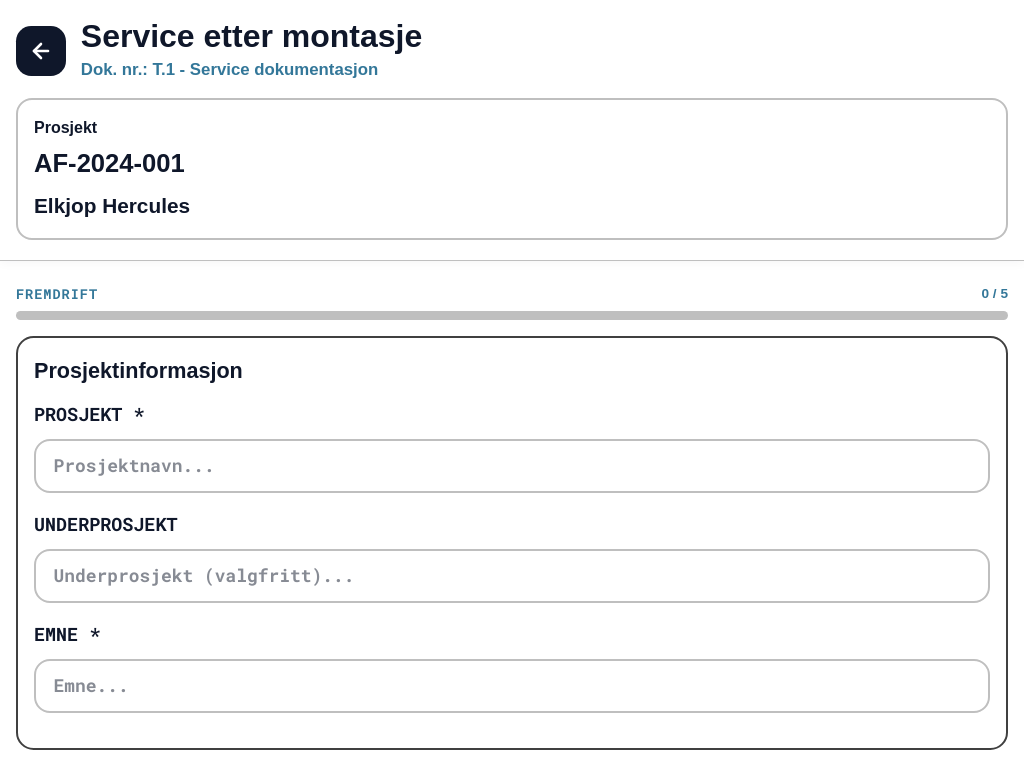
Scenario: KSServiceEtterMontasjeScreen › renders and updates progress when filling a tracked field
Expected: the text "0 / 5" is shown, [982,284,1008,304]
Type "Serviceprosjekt" into the field labelled "PROSJEKT *" at [512, 466], box [34,439,990,493]
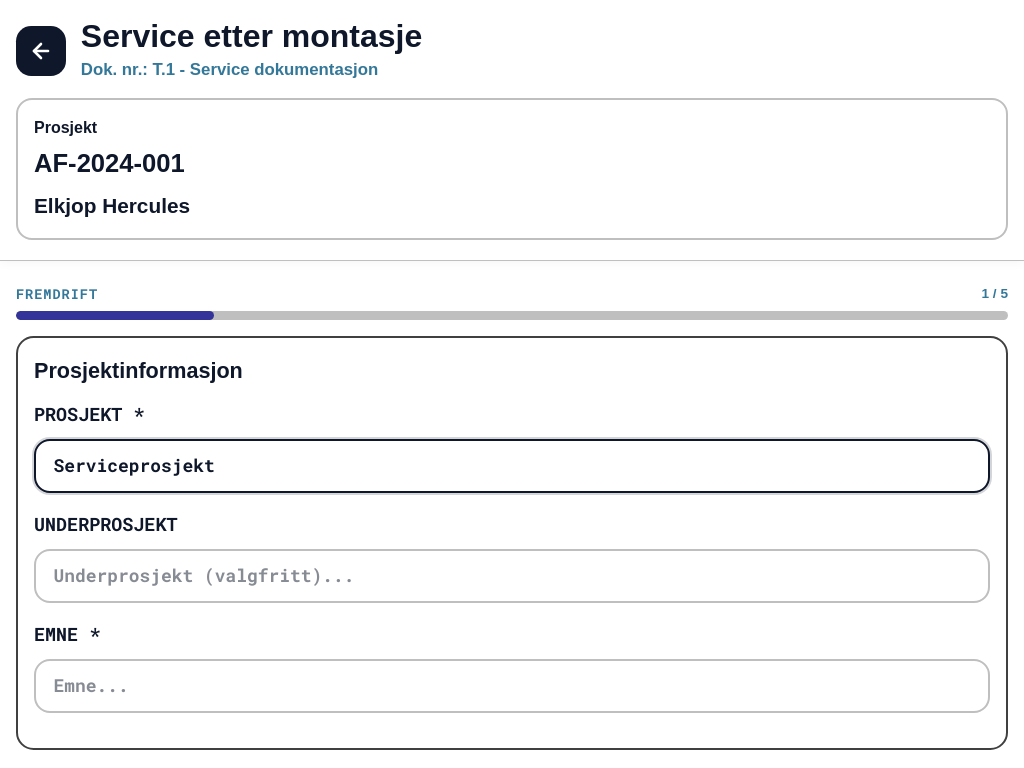
Expected: the text "1 / 5" is shown, [982,284,1008,304]
